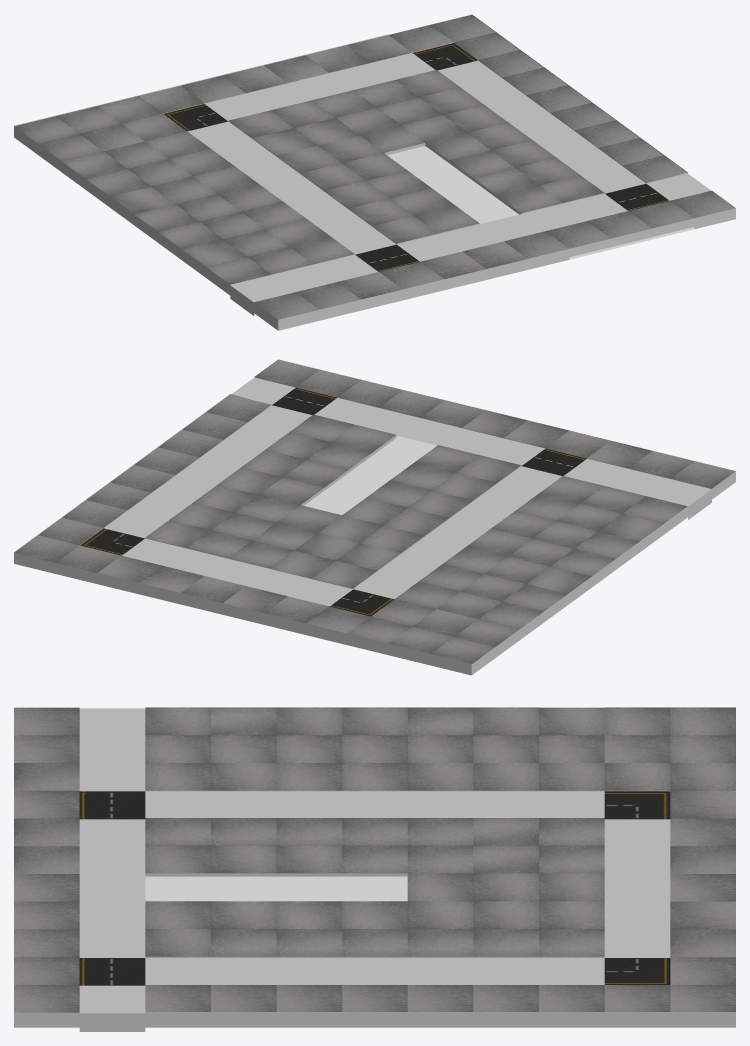
Rendered from area1base_ver9.fbx.
3 views of the same model, one above another, from view 1: azimuth 30°, elevation 25°; view 2: azimuth 150°, elevation 25°; view 3: azimuth 270°, elevation 25° (orthographic). The views are drawn at different scales.
Parts seen in each view (by area): view 1: Cube; view 2: Cube; view 3: Cube.
Boxes of the visible parts, x1,y1,x2,y2 form: Cube: [14, 14, 735, 330]; Cube: [14, 359, 735, 675]; Cube: [14, 707, 735, 1031].
Size of the model in its own units: 20000 by 695 by 20001.
